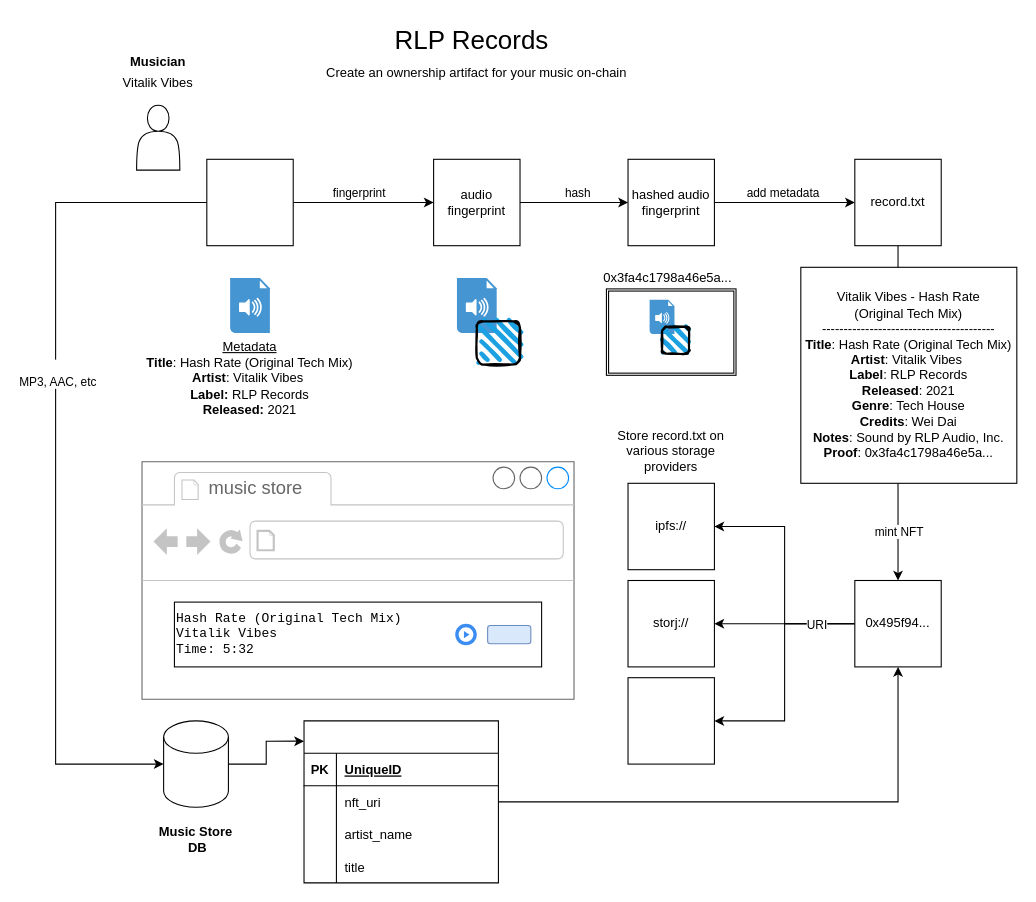
This 1036x902 diagram has some shape labels left out. Each missing label, with the box of its shape:
Buy: (487, 624, 531, 644)
dropbox://: (627, 677, 714, 764)
master.wav: (206, 158, 293, 246)
musicstore.com: (281, 525, 552, 555)
record: (303, 720, 498, 883)
